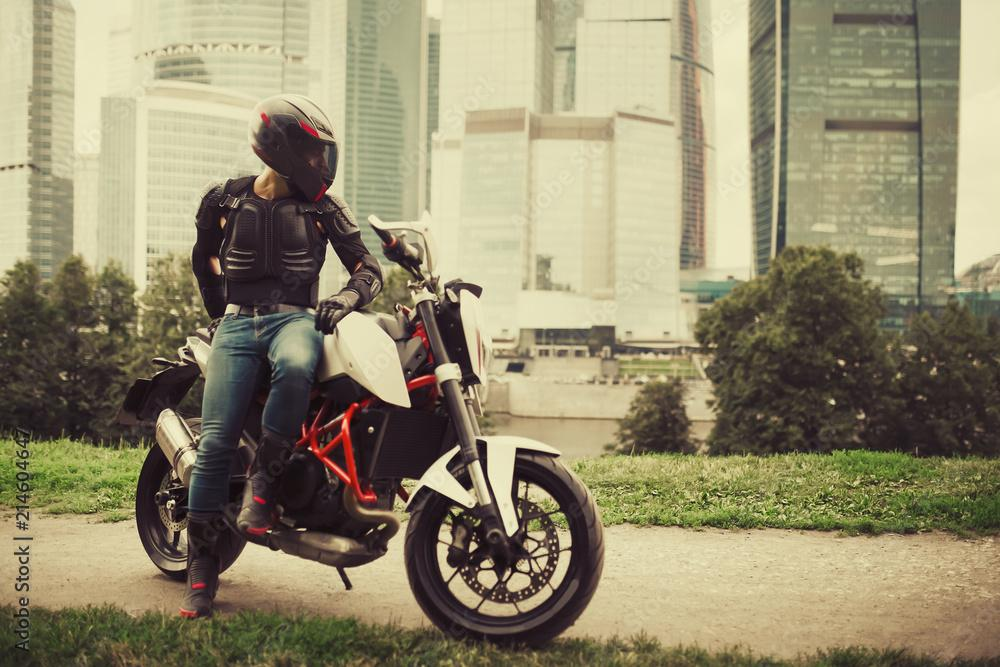helmet: (247, 92, 339, 205)
